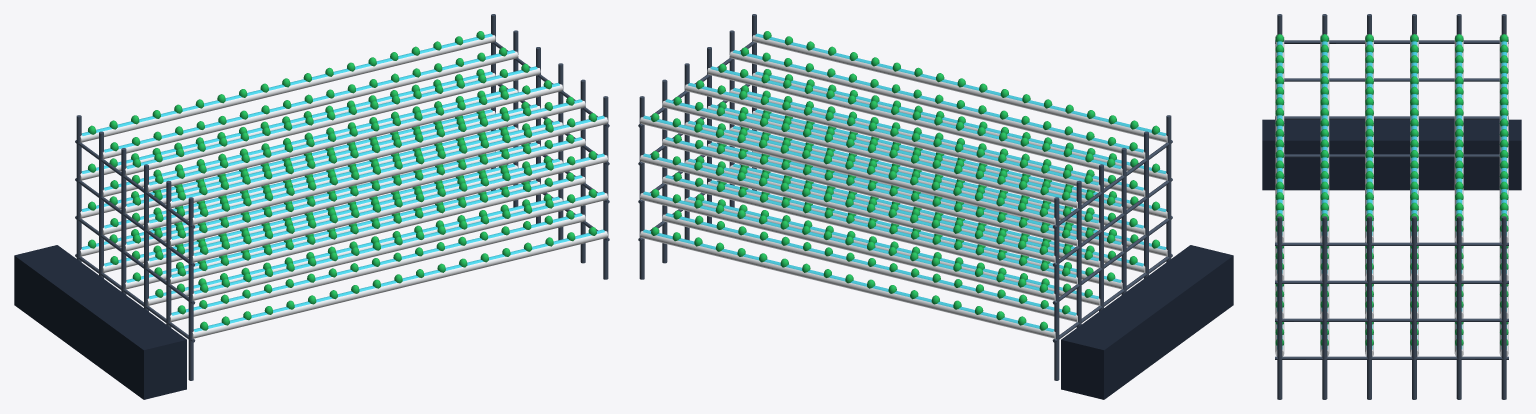
Rendered from hidroponia-48.glb.
3 views of the same model, side by side, from view 1: azimuth 30°, elevation 25°; view 2: azimuth 150°, elevation 25°; view 3: azimuth 270°, elevation 25° (orthographic).
Size of the model in its own units: 5.48 by 2.01 by 2.6.
